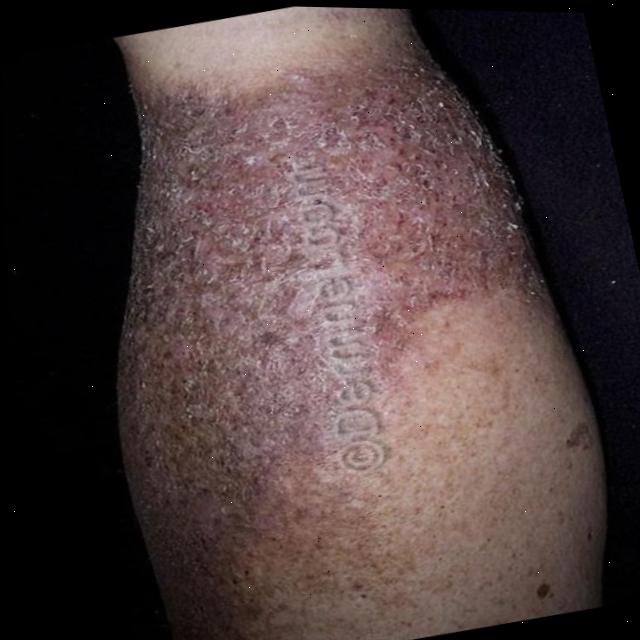Eczema: (41, 23, 592, 640)
